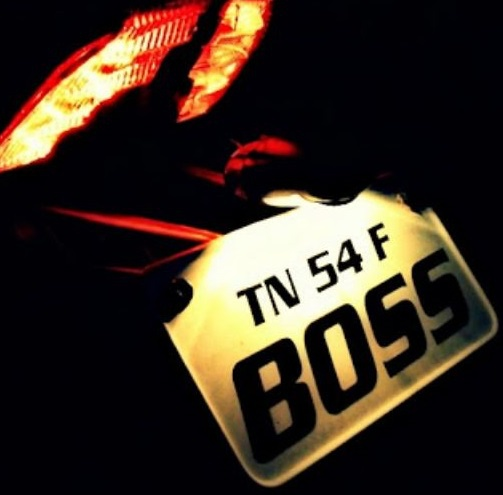plate: (133, 218, 488, 424)
